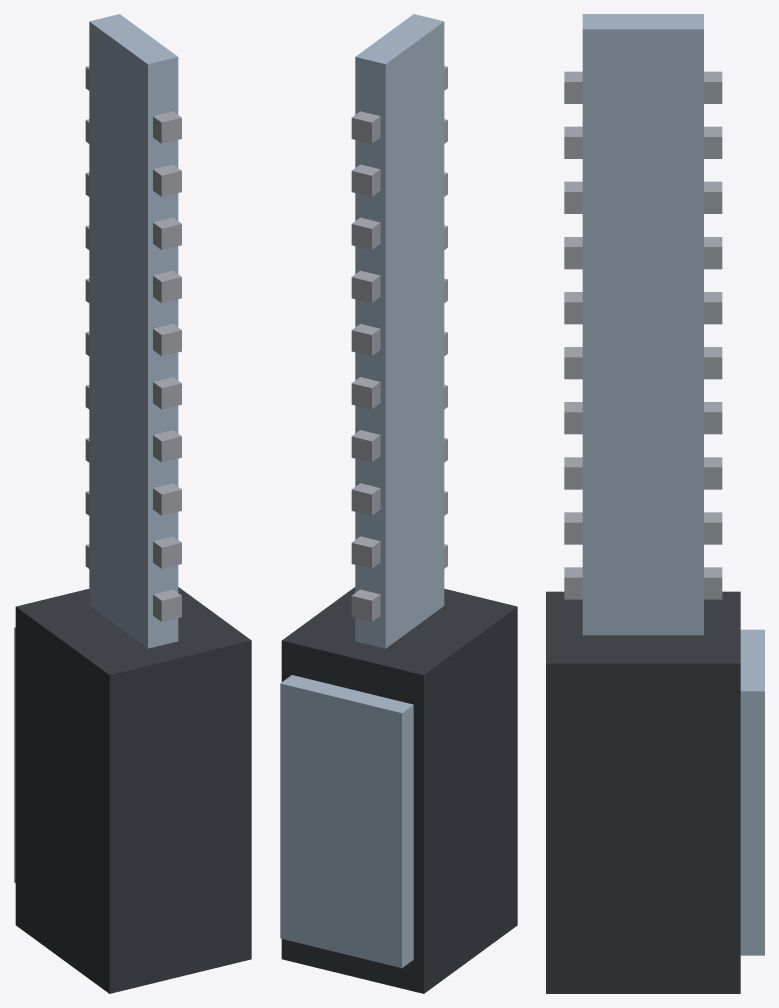
The model's file is titanium_chainsaw.glb.
The picture shows the model from 3 angles, left to right: view 1: azimuth 30°, elevation 25°; view 2: azimuth 150°, elevation 25°; view 3: azimuth 270°, elevation 25°; orthographic projection. The views are drawn at different scales.
Visible parts, largest first — view 1: titanium_chainsaw_v0; view 2: titanium_chainsaw_v0; view 3: titanium_chainsaw_v0.
Boxes of the visible parts, <box> form: titanium_chainsaw_v0: <box>14,14,251,993</box>; titanium_chainsaw_v0: <box>280,14,517,993</box>; titanium_chainsaw_v0: <box>546,14,764,993</box>.
Size of the model in its own units: 0.14 by 0.85 by 0.18.
